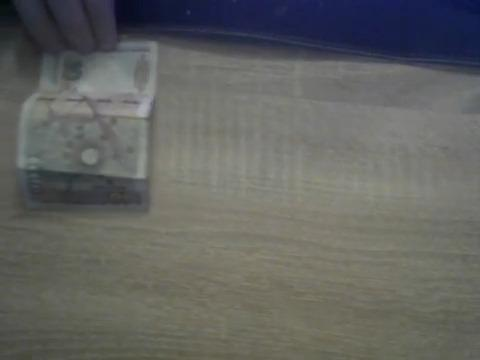10leva: (16, 41, 159, 209)
